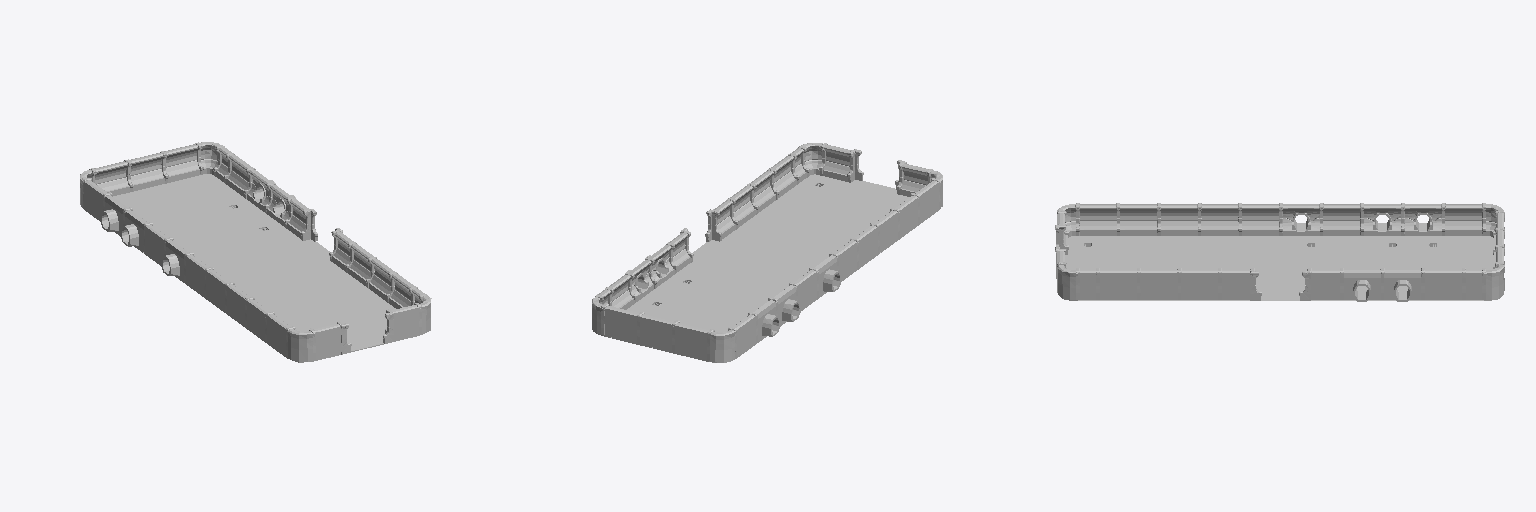
The model's file is DungeonRoom_12.obj.
The picture shows the model from 3 angles: view 1: azimuth 30°, elevation 25°; view 2: azimuth 150°, elevation 25°; view 3: azimuth 270°, elevation 25°; orthographic projection.
Visible parts, largest first — view 1: DungeonRoom_12; view 2: DungeonRoom_12; view 3: DungeonRoom_12.
Part boxes in pixels (bbox=[...]): DungeonRoom_12: bbox=[80, 142, 431, 362]; DungeonRoom_12: bbox=[592, 143, 942, 362]; DungeonRoom_12: bbox=[1055, 203, 1504, 301].
Bounding box in the file's own units: 36 × 8.22 × 88.54.